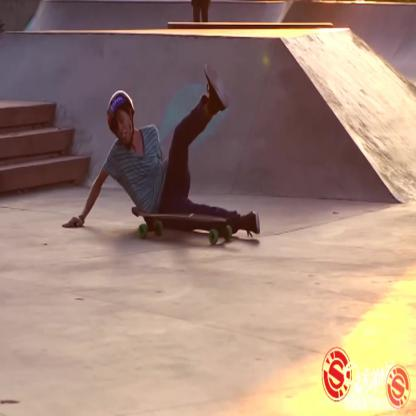Fall_Down: (61, 61, 263, 238)
